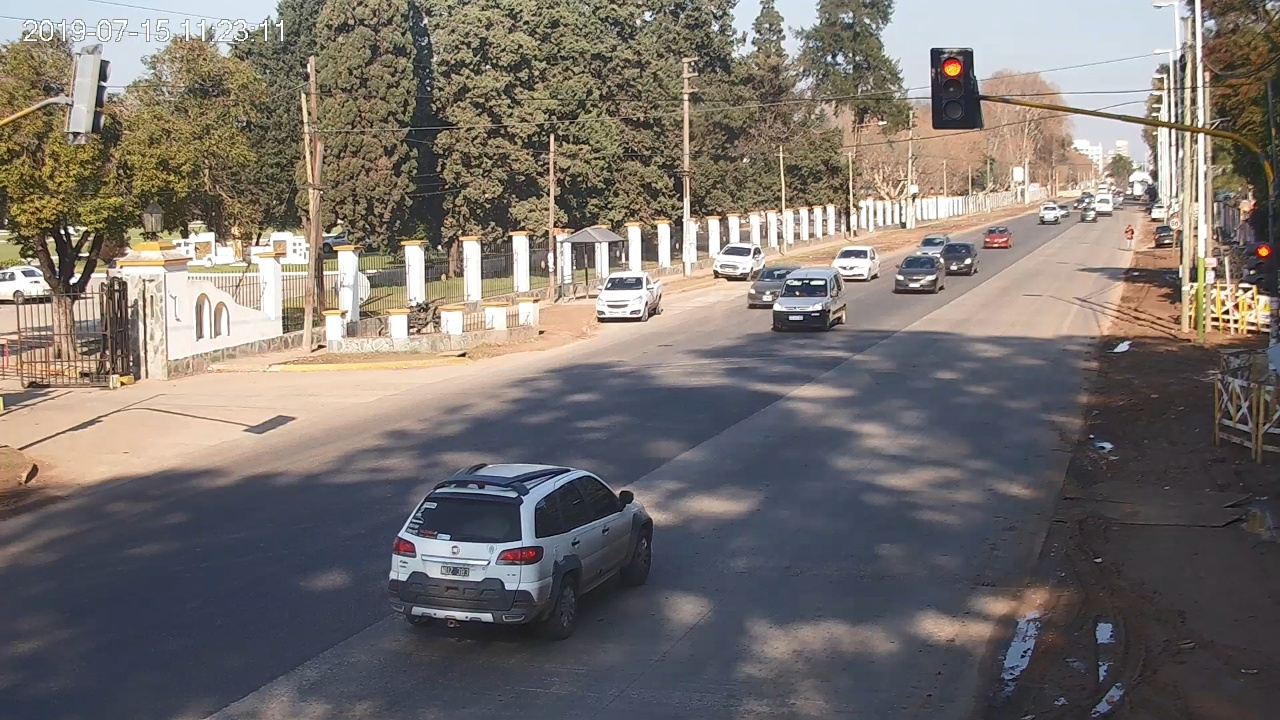car: (387, 463, 653, 640)
front car: (772, 267, 847, 331)
traffic light: (937, 53, 969, 121), (1255, 243, 1273, 287)
